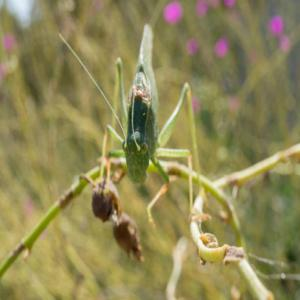locust: (83, 13, 195, 188)
